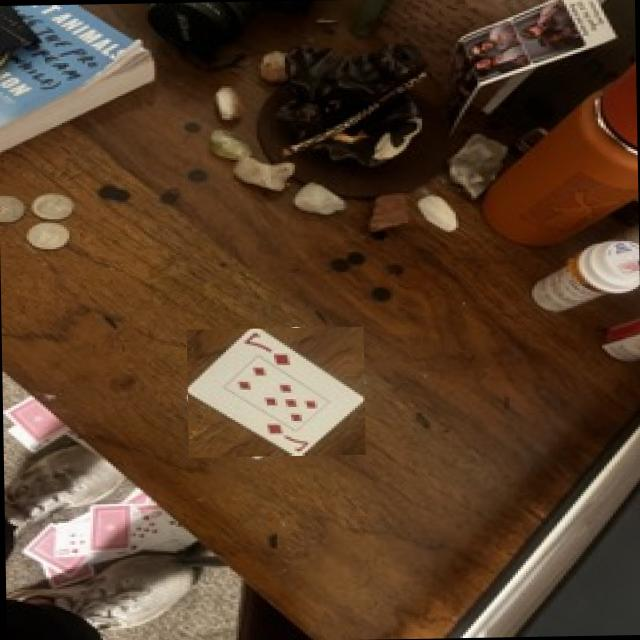7 of diamonds: (186, 329, 363, 455)
